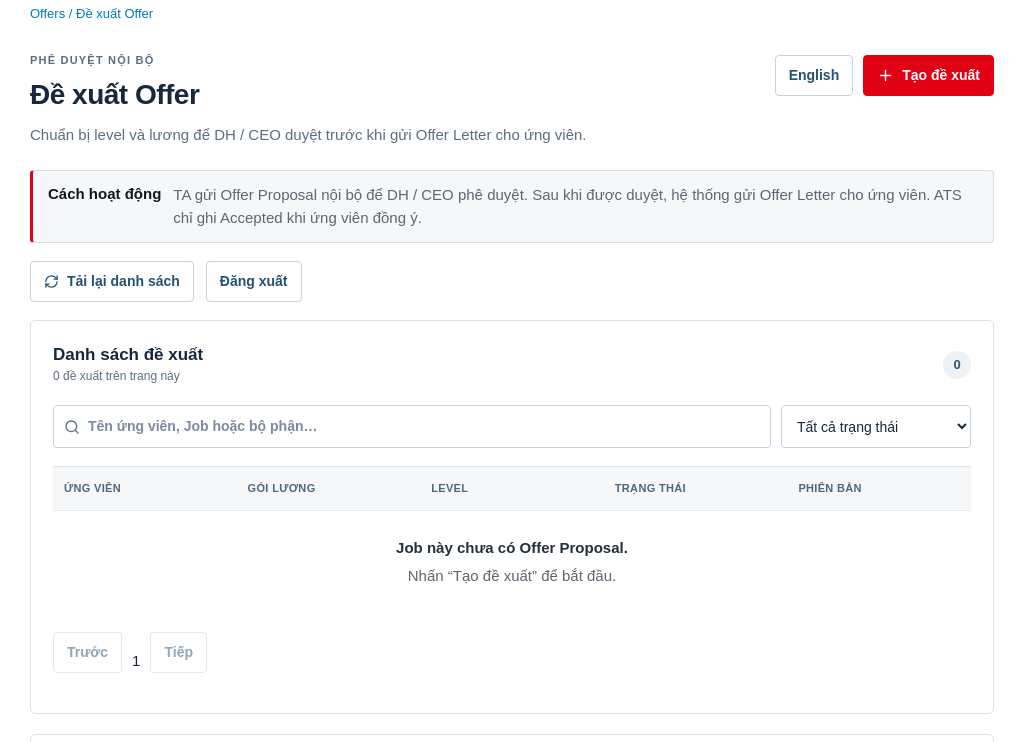
Test: Offer approval workflow › TA creates a draft using a candidate selector and the seven proposal fields
The image size is (1024, 742).
Click the button "Tạo đề xuất". click: (929, 75)
box: [863, 54, 994, 96]
(page scrolled)
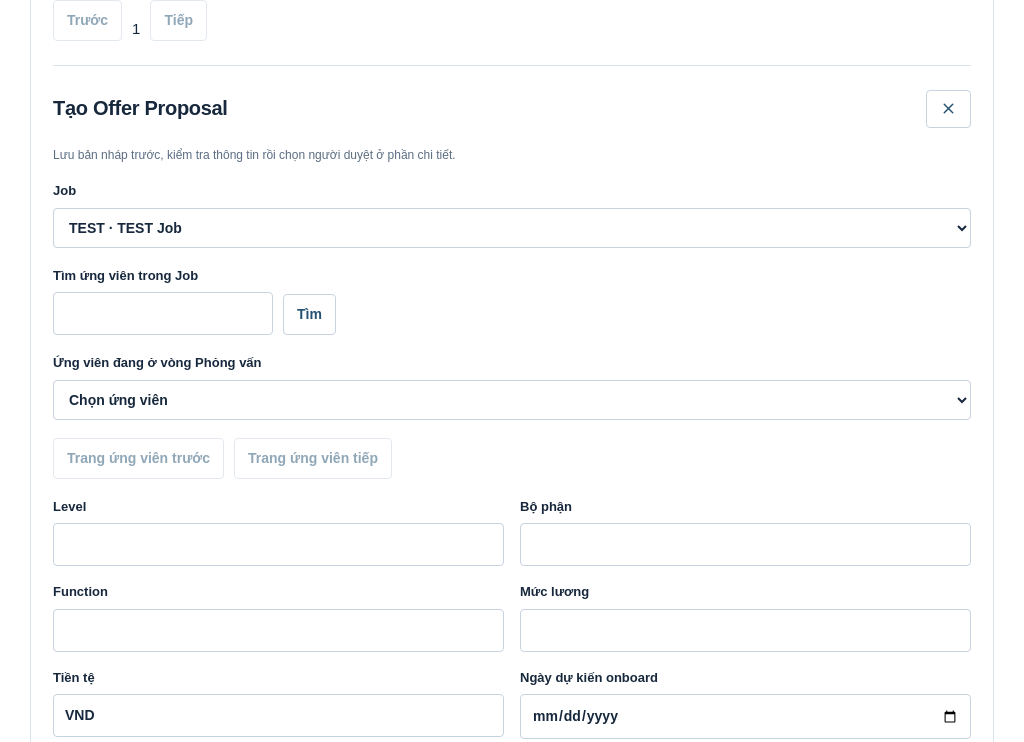
Select "TEST Candidate" in the dropdown labelled "Ứng viên đang ở vòng Phỏng vấn". click: (512, 400)
box: [53, 380, 971, 420]
Type "L6" into the field labelled "Level". click: (278, 545)
box: [53, 523, 504, 566]
Type "TEST Dept" into the field labelled "Bộ phận". click: (746, 545)
box: [520, 523, 971, 566]
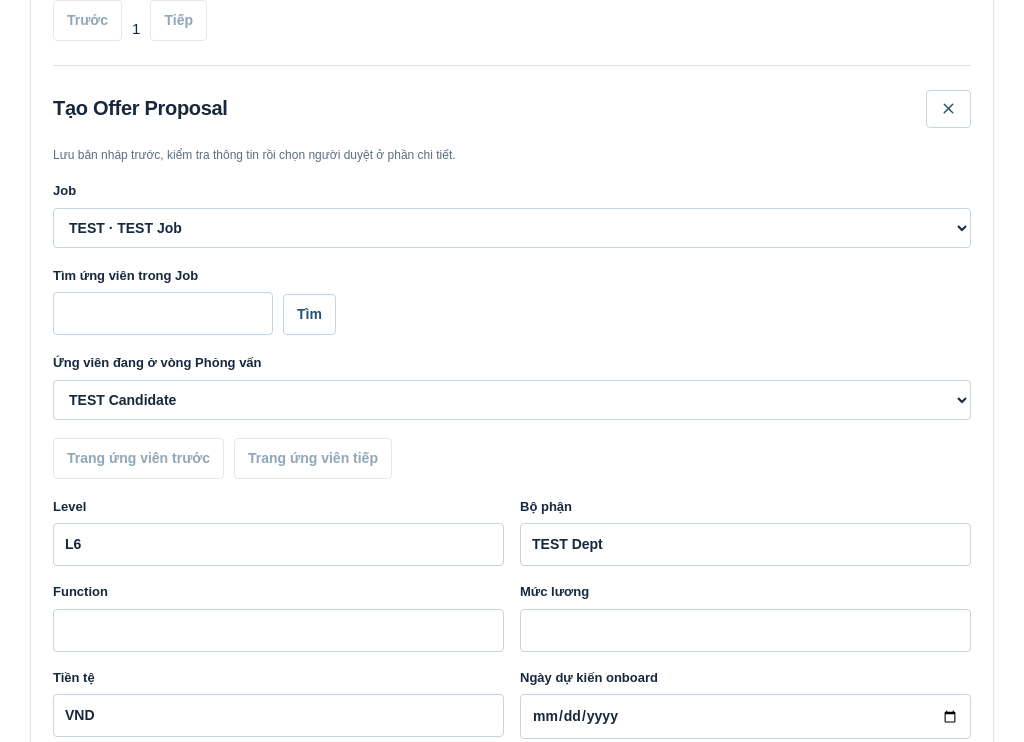
Type "Engineering" into the field labelled "Function". click: (278, 630)
box: [53, 609, 504, 652]
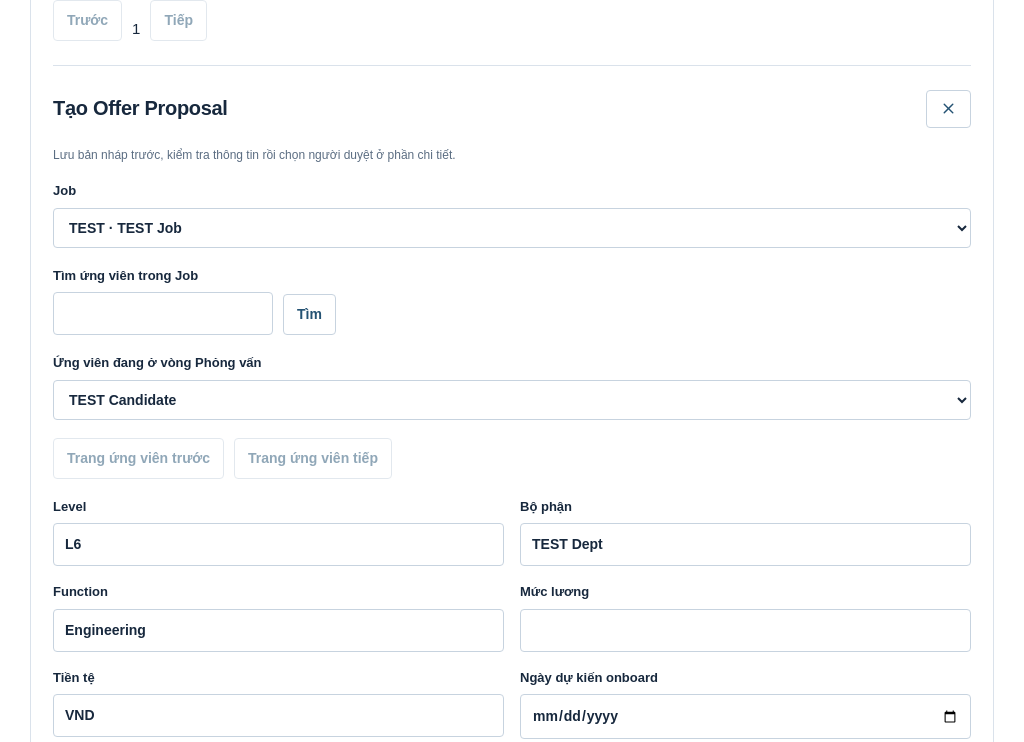
Type "60000000" into the number field labelled "Mức lương". click: (746, 630)
box: [520, 609, 971, 652]
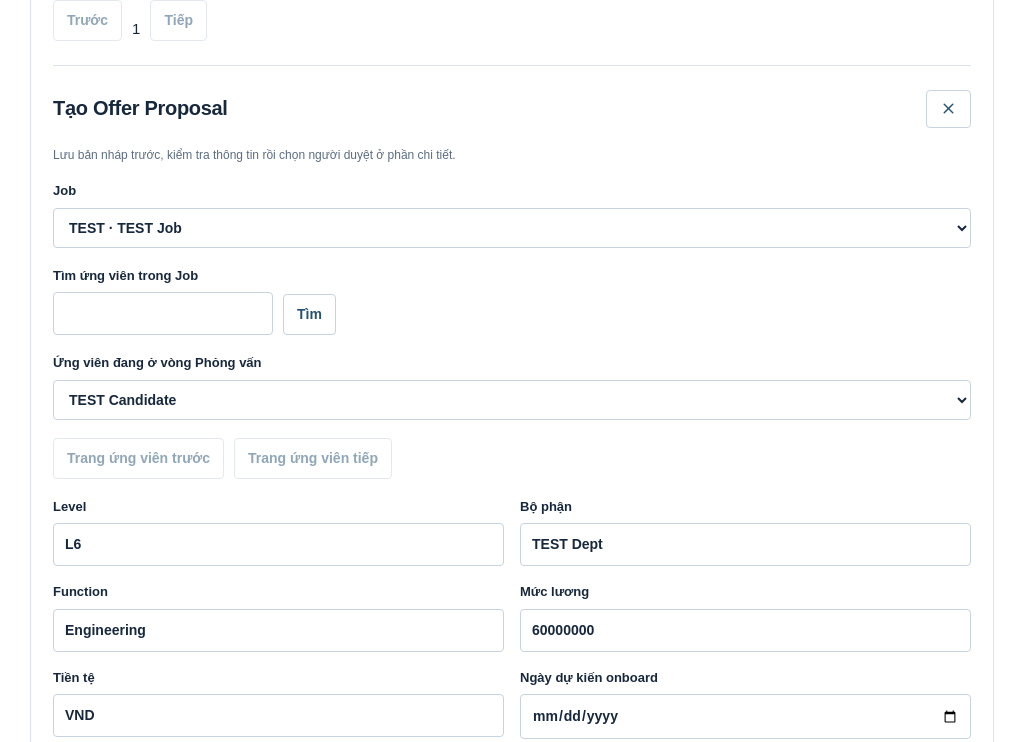
Type "2026-12-01" into the date field labelled "Ngày dự kiến onboard". click: (746, 717)
box: [520, 694, 971, 739]
(page scrolled)
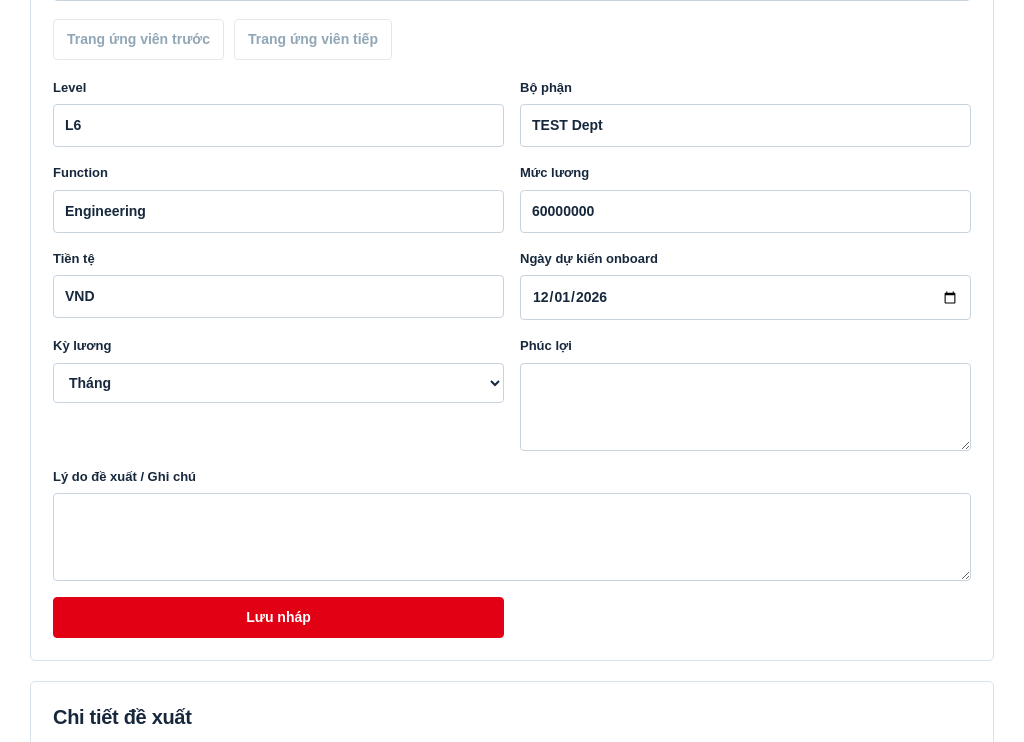
Submit the form named "Lưu nháp"
(page scrolled)
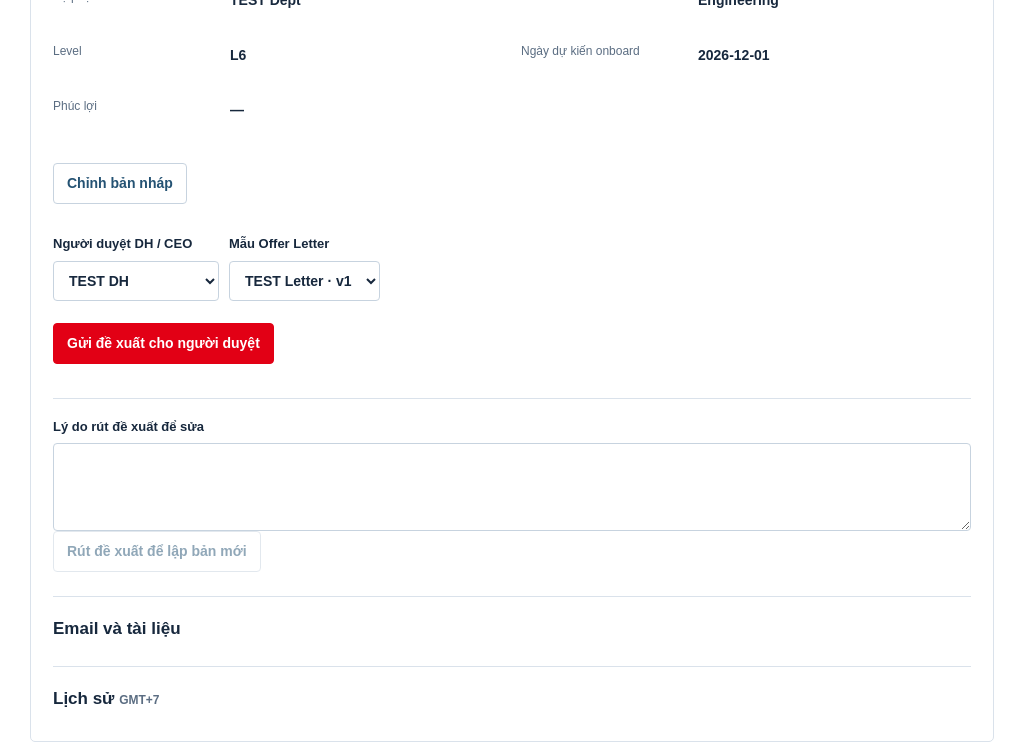
Check: the button "Gửi đề xuất cho người duyệt" is shown, box [53, 322, 274, 364]
